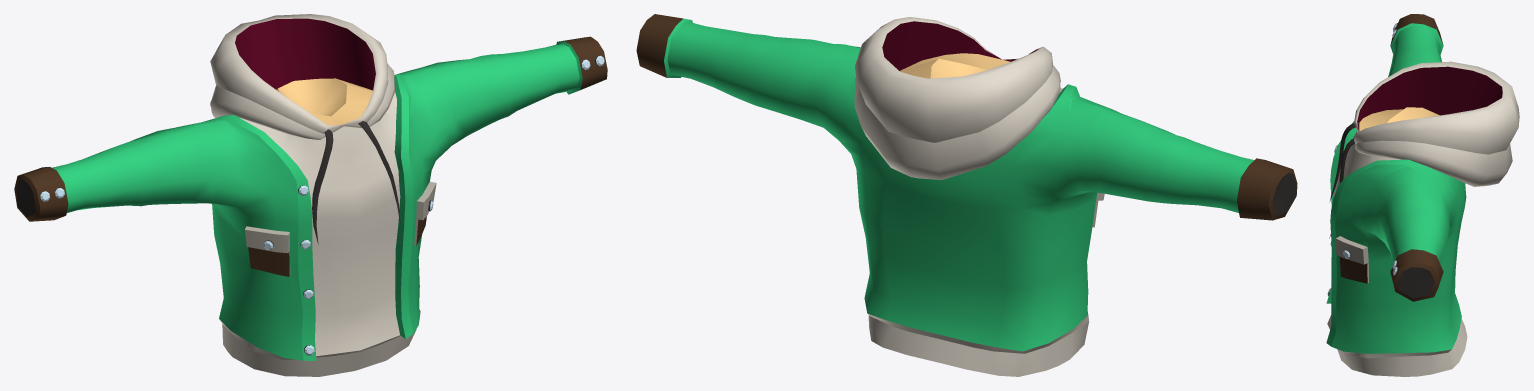
File: Torso_18_04.fbx
3 views of the same model, side by side, from view 1: azimuth 30°, elevation 25°; view 2: azimuth 150°, elevation 25°; view 3: azimuth 270°, elevation 25° (orthographic). The views are drawn at different scales.
Visible parts, largest first — view 1: Torso_18_04; view 2: Torso_18_04; view 3: Torso_18_04.
Boxes of the visible parts, x1,y1,x2,y2 form: Torso_18_04: (14,14,607,376); Torso_18_04: (636,14,1297,376); Torso_18_04: (1326,14,1519,376).
Bounding box in the file's own units: 118 × 56.44 × 38.38.
